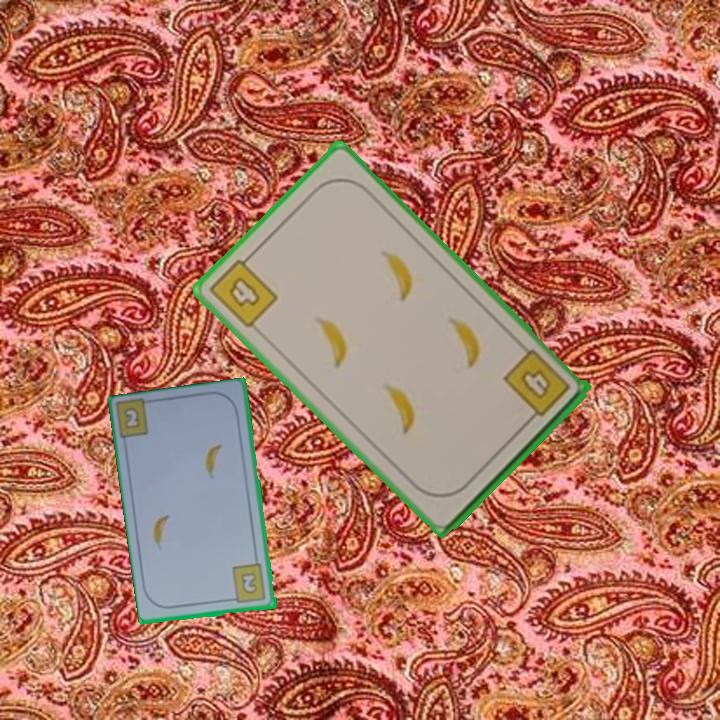2b: (227, 561, 269, 606), (123, 406, 141, 429)
4b: (205, 249, 281, 331), (499, 345, 574, 426)
